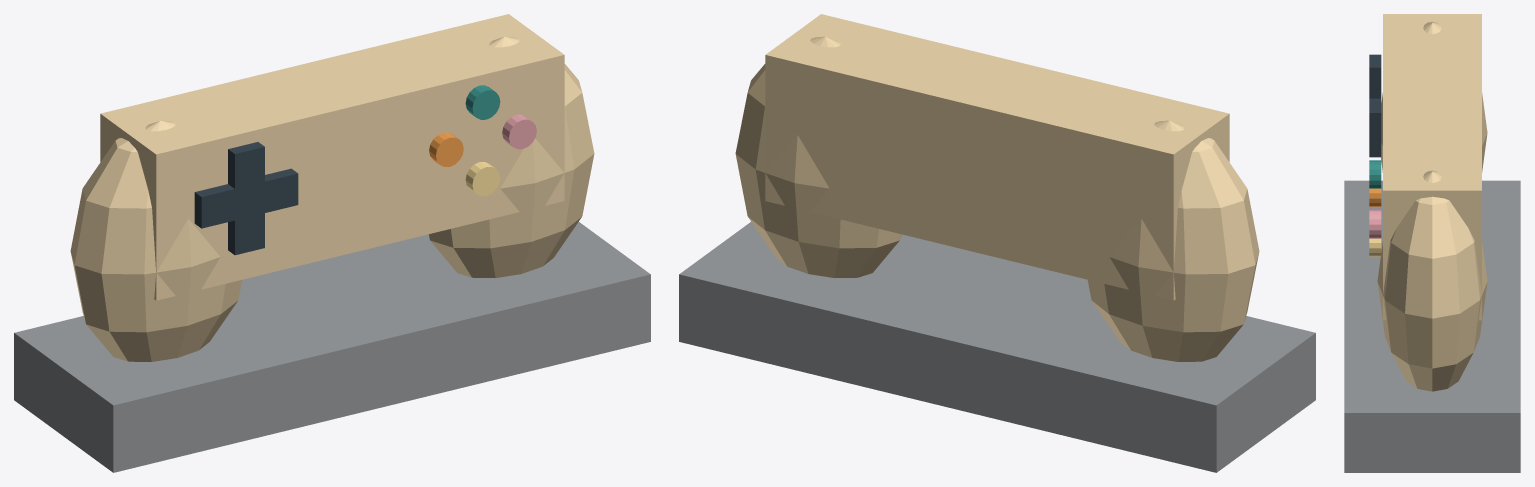
Rendered from giant_controller_statue.glb.
The picture shows the model from 3 angles, left to right: view 1: azimuth 30°, elevation 25°; view 2: azimuth 150°, elevation 25°; view 3: azimuth 270°, elevation 25°; orthographic projection. The views are drawn at different scales.
Parts seen in each view (by area): view 1: plinth, controller, grip, grip.001, dpad, dpad.001, button, button.001, button.002, button.003; view 2: plinth, controller, grip, grip.001; view 3: plinth, controller, grip.001, dpad.001, grip, dpad, button, button.001, button.002, button.003.
Boxes of the visible parts, left/top/right/bottom form: plinth: left=14, top=222, right=650, bottom=472; controller: left=100, top=14, right=564, bottom=300; grip: left=70, top=120, right=242, bottom=361; grip.001: left=428, top=36, right=594, bottom=277; dpad: left=194, top=168, right=298, bottom=228; dpad.001: left=228, top=142, right=264, bottom=255; button: left=502, top=114, right=536, bottom=149; button.001: left=465, top=85, right=500, bottom=119; button.002: left=429, top=132, right=463, bottom=166; button.003: left=465, top=162, right=500, bottom=196; plinth: left=679, top=222, right=1315, bottom=472; controller: left=765, top=14, right=1229, bottom=300; grip: left=1087, top=120, right=1259, bottom=361; grip.001: left=735, top=36, right=901, bottom=277; plinth: left=1344, top=180, right=1520, bottom=472; controller: left=1383, top=14, right=1481, bottom=320; grip.001: left=1377, top=170, right=1487, bottom=391; dpad.001: left=1369, top=54, right=1381, bottom=157; grip: left=1381, top=21, right=1487, bottom=172; dpad: left=1369, top=98, right=1381, bottom=140; button: left=1369, top=210, right=1381, bottom=238; button.001: left=1369, top=160, right=1381, bottom=188; button.002: left=1369, top=188, right=1381, bottom=206; button.003: left=1369, top=238, right=1381, bottom=256.
Bounding box in the file's own units: 2.5 × 1.3 × 0.8.
